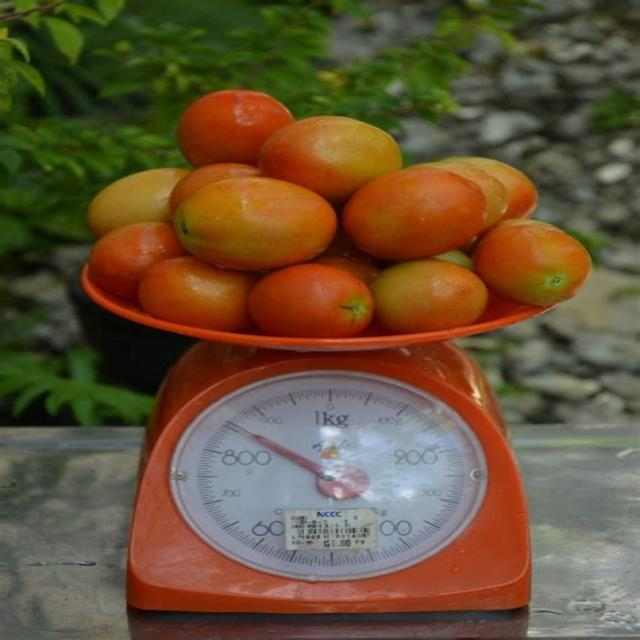Tomato: (171, 170, 338, 275), (341, 164, 491, 263), (256, 117, 404, 209), (247, 253, 381, 341), (469, 219, 593, 314), (81, 222, 186, 333), (134, 254, 264, 337), (368, 258, 493, 336), (176, 91, 295, 169), (86, 168, 191, 241)
